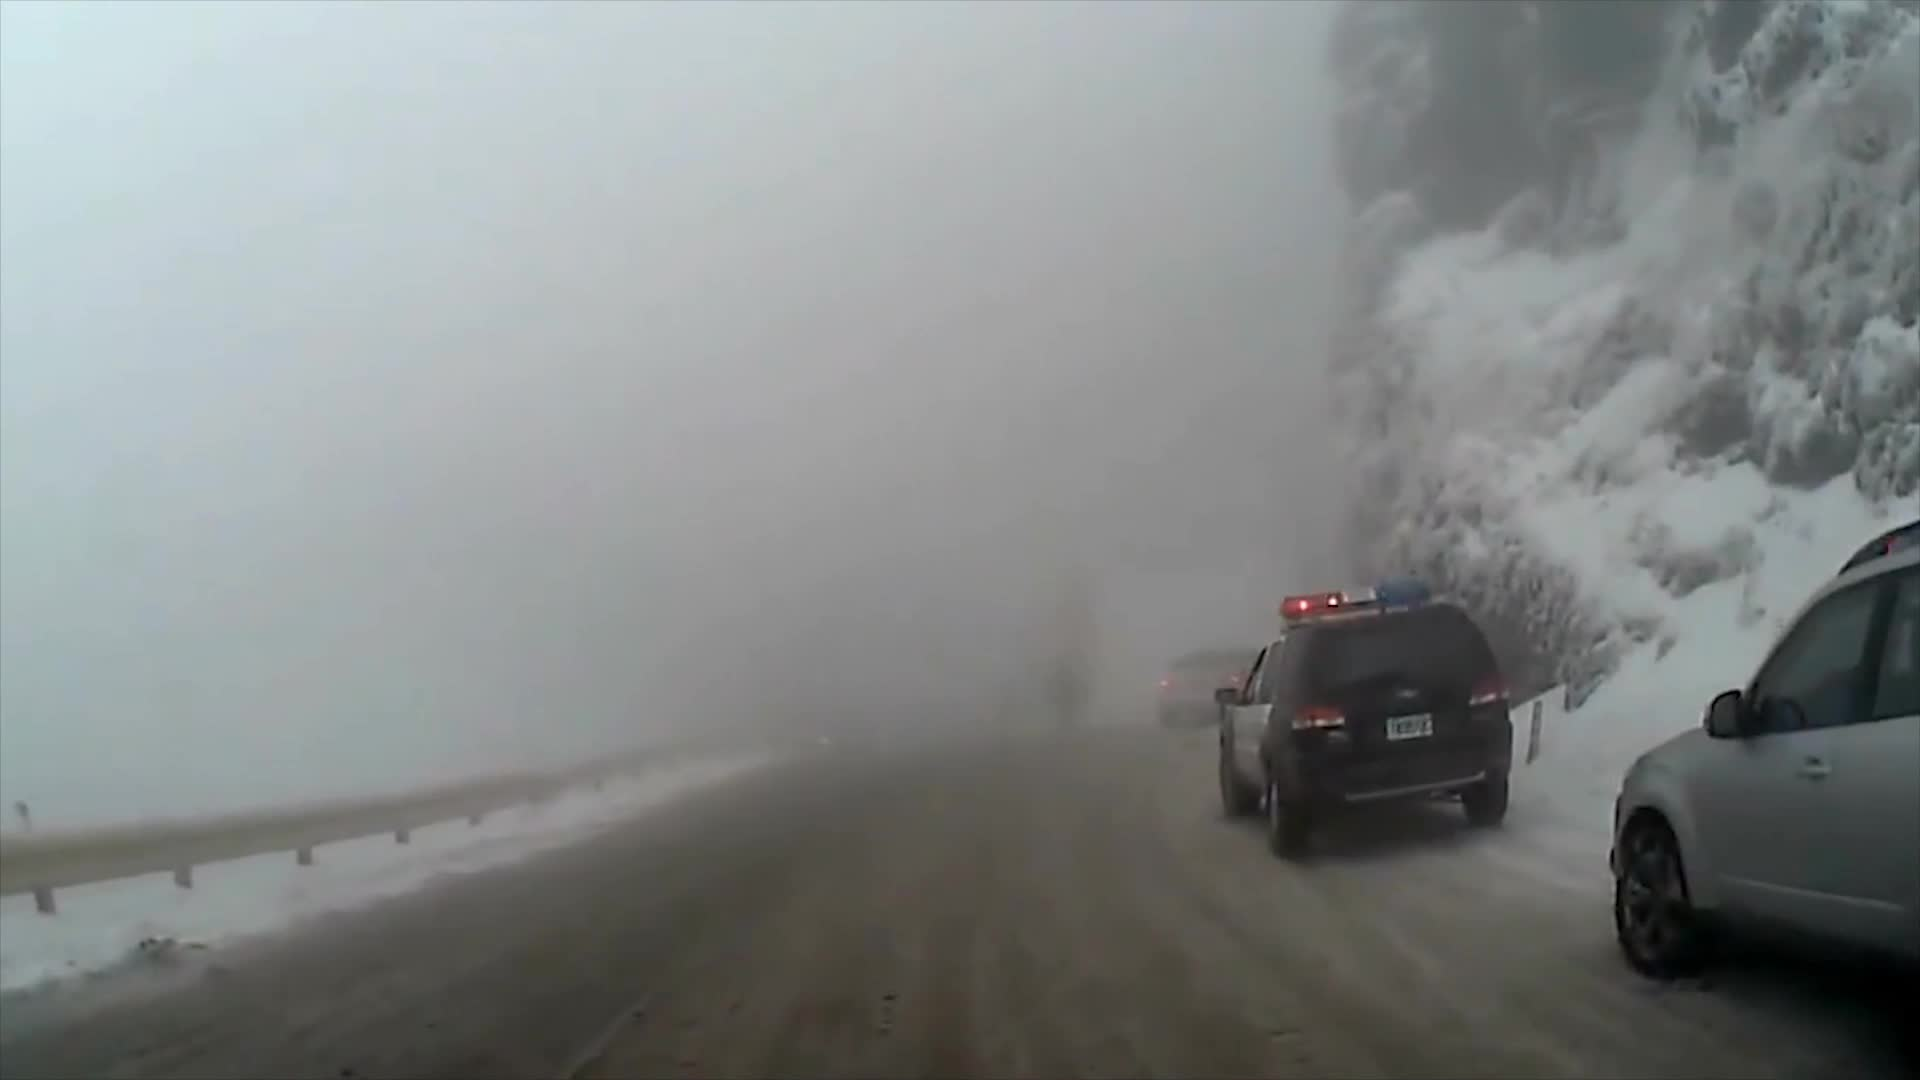vehicle: (1604, 516, 1920, 1075), (1209, 579, 1513, 858)
